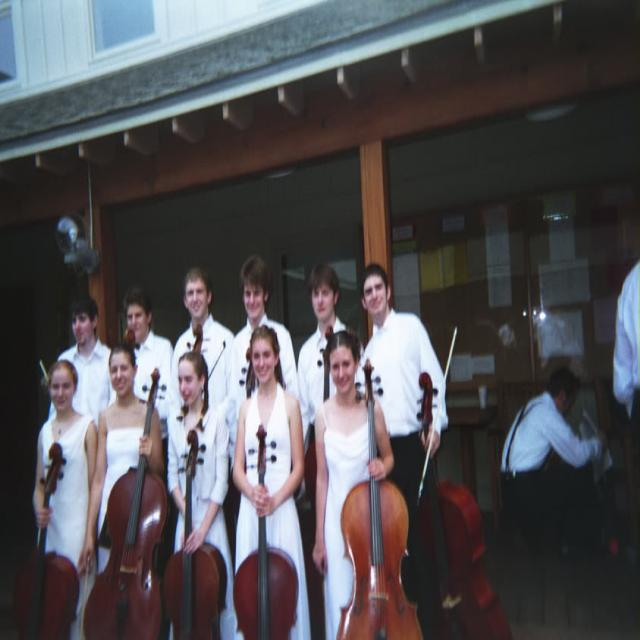cello: (415, 370, 515, 639), (332, 356, 421, 639), (80, 366, 172, 639), (5, 438, 84, 639), (234, 422, 301, 639), (163, 435, 230, 639)
